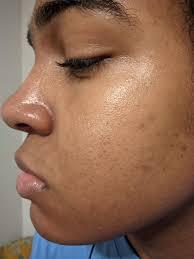Oily-Skin: (9, 13, 163, 234)
